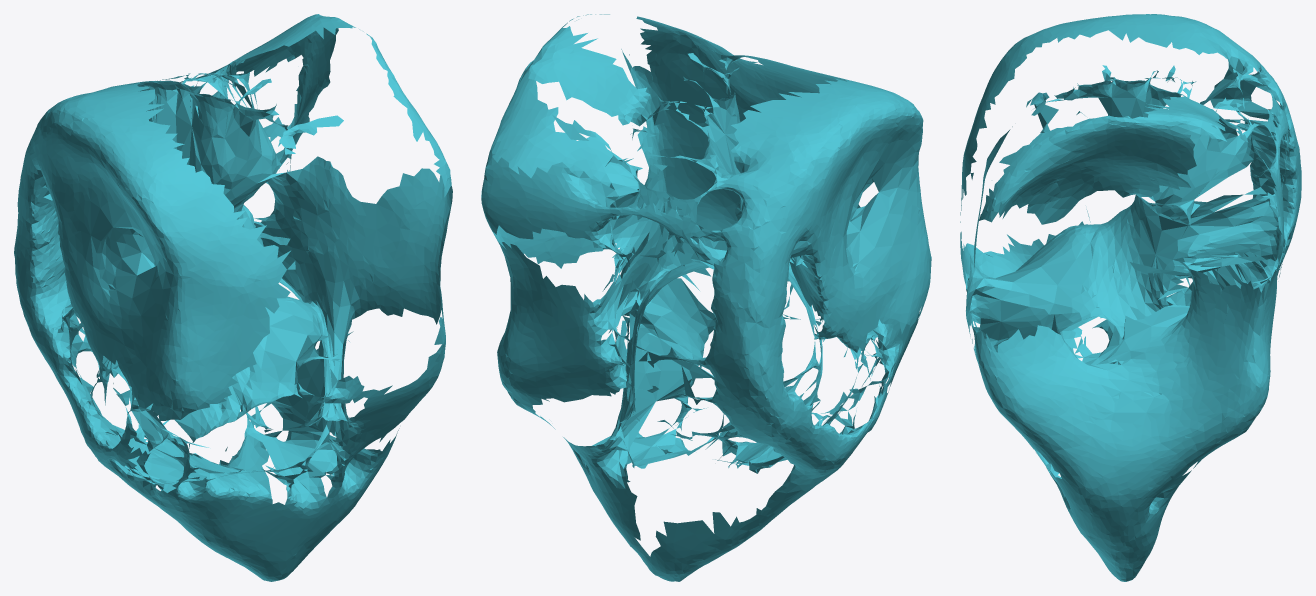
3 renders of one model, left to right at view 1: azimuth 30°, elevation 25°; view 2: azimuth 150°, elevation 25°; view 3: azimuth 270°, elevation 25°, orthographic. The views are drawn at different scales.
Visible parts, largest first — view 1: Renderer Node; view 2: Renderer Node; view 3: Renderer Node.
Part boxes in pixels (x1,y1,x2,y2): Renderer Node: (14, 14, 452, 581); Renderer Node: (481, 14, 931, 581); Renderer Node: (960, 14, 1301, 581).
Size of the model in its own units: 0.4091 by 0.6879 by 0.4184.
Materials: 1 (1 with a texture image).
